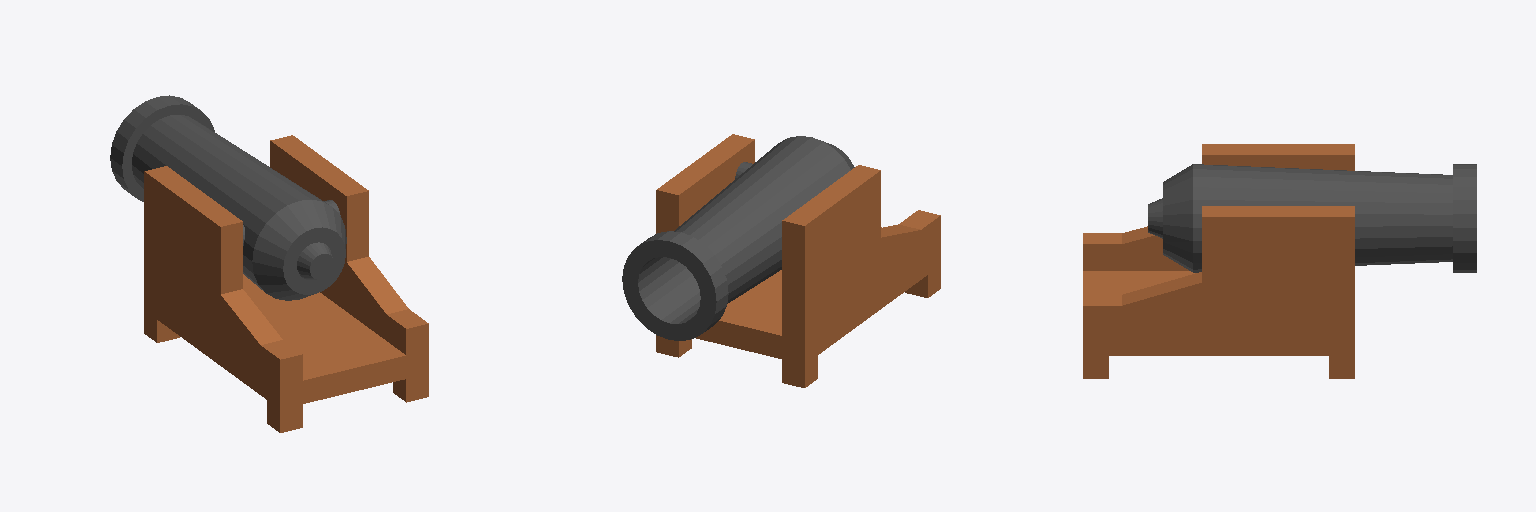
The model's file is cannonLarge.obj.
3 renders of one model, left to right at view 1: azimuth 30°, elevation 25°; view 2: azimuth 150°, elevation 25°; view 3: azimuth 270°, elevation 25°, orthographic.
Visible parts, largest first — view 1: cannonLarge, barrel 1; view 2: cannonLarge, barrel 1; view 3: cannonLarge, barrel 1.
Part boxes in pixels (x1,y1,x2,y2): cannonLarge: (144,135,428,432); barrel 1: (110,95,346,300); cannonLarge: (656,134,940,387); barrel 1: (622,136,854,340); cannonLarge: (1083,144,1354,378); barrel 1: (1148,164,1476,272).
Size of the model in its own units: 4.34 by 4.87 by 9.99.